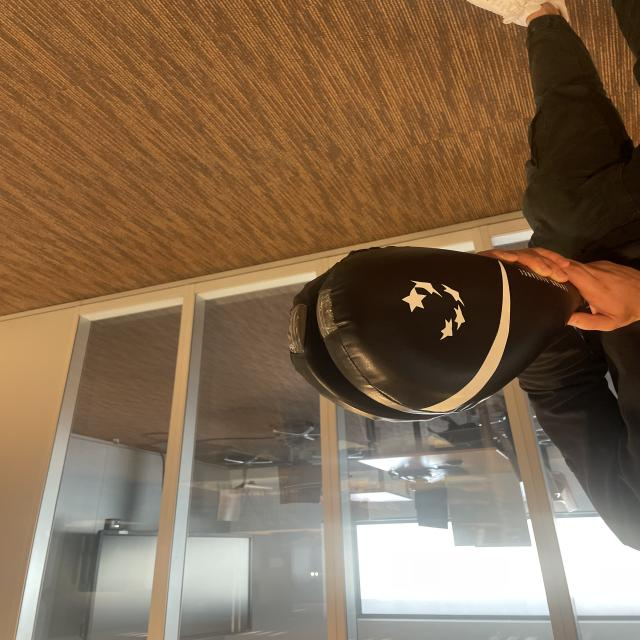paddle: (291, 252, 539, 422)
